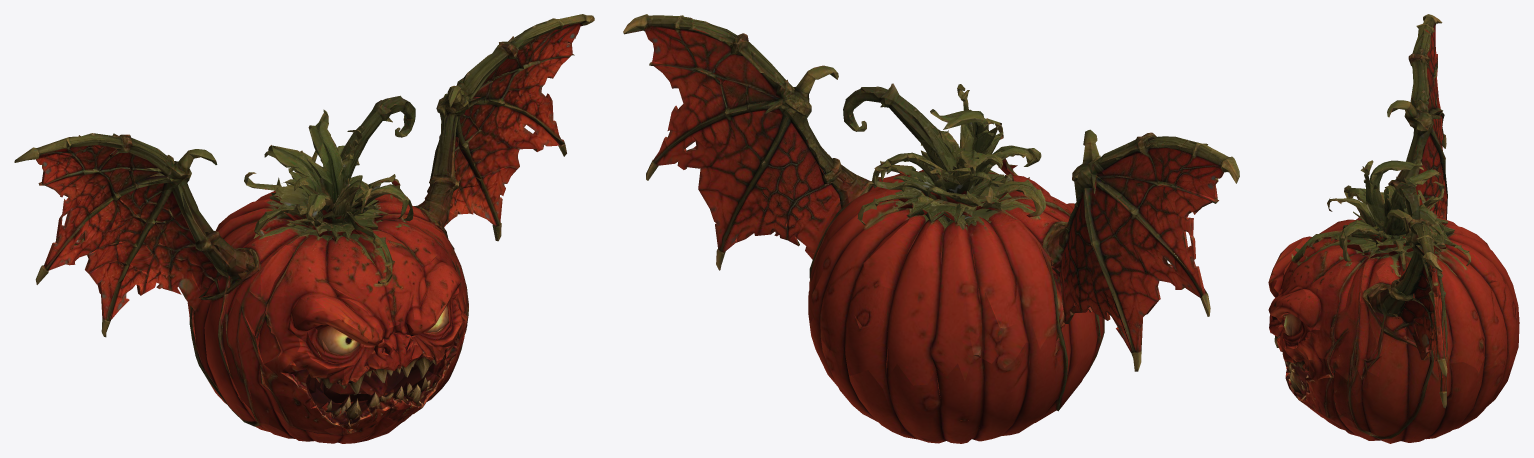
The model's file is tomato.glb.
3 views of the same model, side by side, from view 1: azimuth 30°, elevation 25°; view 2: azimuth 150°, elevation 25°; view 3: azimuth 270°, elevation 25° (orthographic). The views are drawn at different scales.
Parts seen in each view (by area): view 1: tomato; view 2: tomato; view 3: tomato.
Boxes of the visible parts, x1,y1,x2,y2 form: tomato: (14, 14, 594, 443); tomato: (623, 14, 1239, 443); tomato: (1268, 14, 1519, 443).
Bounding box in the file's own units: 3.21 × 1.8 × 1.37.
1 material, 1 textured.
